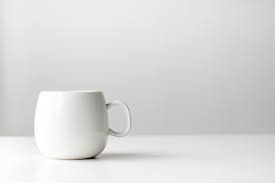cup: (30, 86, 135, 166)
